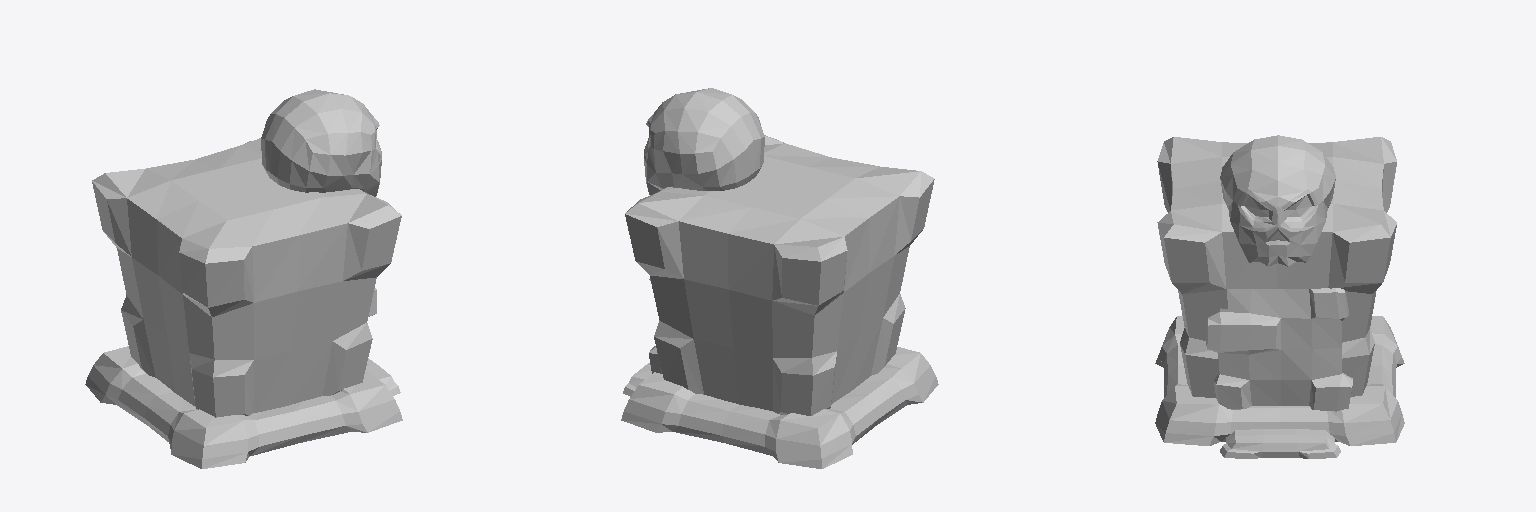
The model's file is Tumba unity.obj.
3 views of the same model, side by side, from view 1: azimuth 30°, elevation 25°; view 2: azimuth 150°, elevation 25°; view 3: azimuth 270°, elevation 25° (orthographic).
Parts seen in each view (by area): view 1: Box010, Broche; view 2: Box010, Broche; view 3: Box010, Object001, Broche.
Boxes of the visible parts, x1,y1,x2,y2 form: Box010: [85, 138, 402, 468]; Broche: [261, 89, 381, 196]; Box010: [621, 135, 938, 468]; Broche: [644, 88, 764, 194]; Box010: [1155, 137, 1404, 458]; Object001: [1206, 288, 1352, 411]; Broche: [1220, 135, 1335, 266].
Bounding box in the file's own units: 148 × 172 × 134.